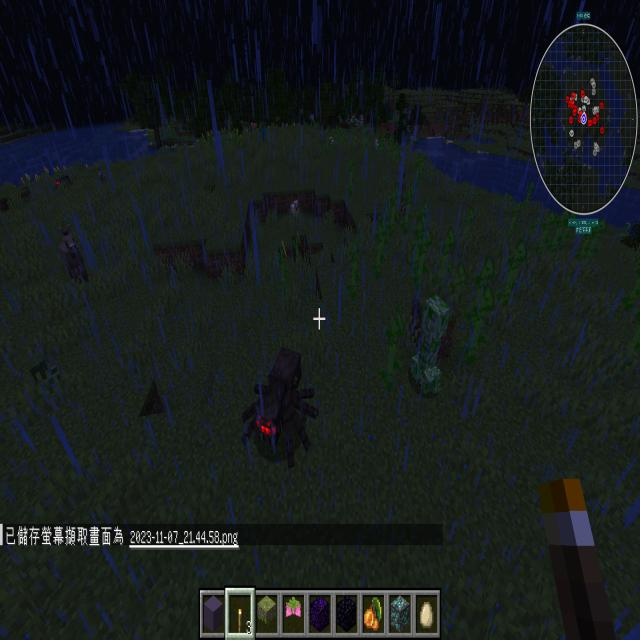Creeper: (407, 290, 453, 401)
Spider: (238, 344, 320, 474), (52, 173, 74, 193)
Zombie: (258, 120, 268, 145)
chicken: (288, 198, 300, 221), (374, 136, 380, 155), (329, 135, 335, 148)
pig: (250, 120, 257, 133)
